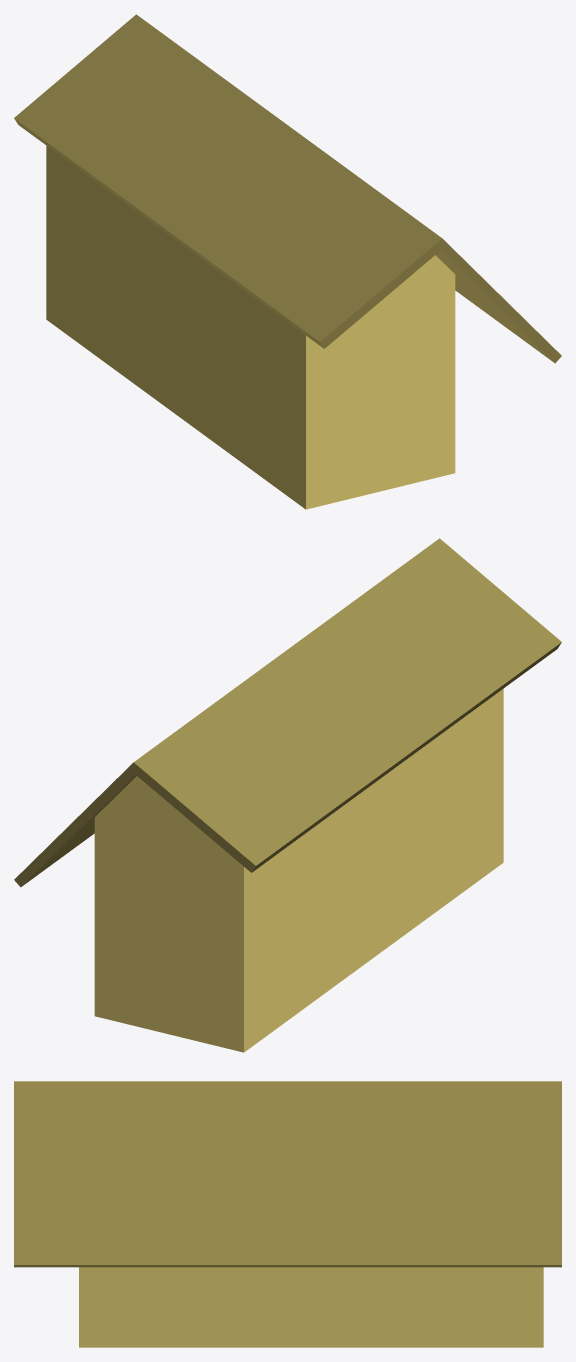
The model's file is result.glb.
The picture shows the model from 3 angles, top to bottom: view 1: azimuth 30°, elevation 25°; view 2: azimuth 150°, elevation 25°; view 3: azimuth 270°, elevation 25°; orthographic projection. The views are drawn at different scales.
Visible parts, largest first — view 1: a8261fa4-be31-46f6-9e70-8b82afbaea25__undefined, aceb6a07-90b9-415d-a700-4c3f3b21ac78__undefined (×2); view 2: a8261fa4-be31-46f6-9e70-8b82afbaea25__undefined, aceb6a07-90b9-415d-a700-4c3f3b21ac78__undefined (×2); view 3: aceb6a07-90b9-415d-a700-4c3f3b21ac78__undefined, a8261fa4-be31-46f6-9e70-8b82afbaea25__undefined.
Part boxes in pixels (x1=…): a8261fa4-be31-46f6-9e70-8b82afbaea25__undefined: x1=46, y1=146, x2=455, y2=509; aceb6a07-90b9-415d-a700-4c3f3b21ac78__undefined (×2): x1=14, y1=14, x2=561, y2=363; a8261fa4-be31-46f6-9e70-8b82afbaea25__undefined: x1=94, y1=689, x2=503, y2=1052; aceb6a07-90b9-415d-a700-4c3f3b21ac78__undefined (×2): x1=14, y1=538, x2=561, y2=887; aceb6a07-90b9-415d-a700-4c3f3b21ac78__undefined: x1=14, y1=1081, x2=561, y2=1267; a8261fa4-be31-46f6-9e70-8b82afbaea25__undefined: x1=79, y1=1267, x2=543, y2=1347.
Size of the model in its own units: 682 by 736 by 1493.
